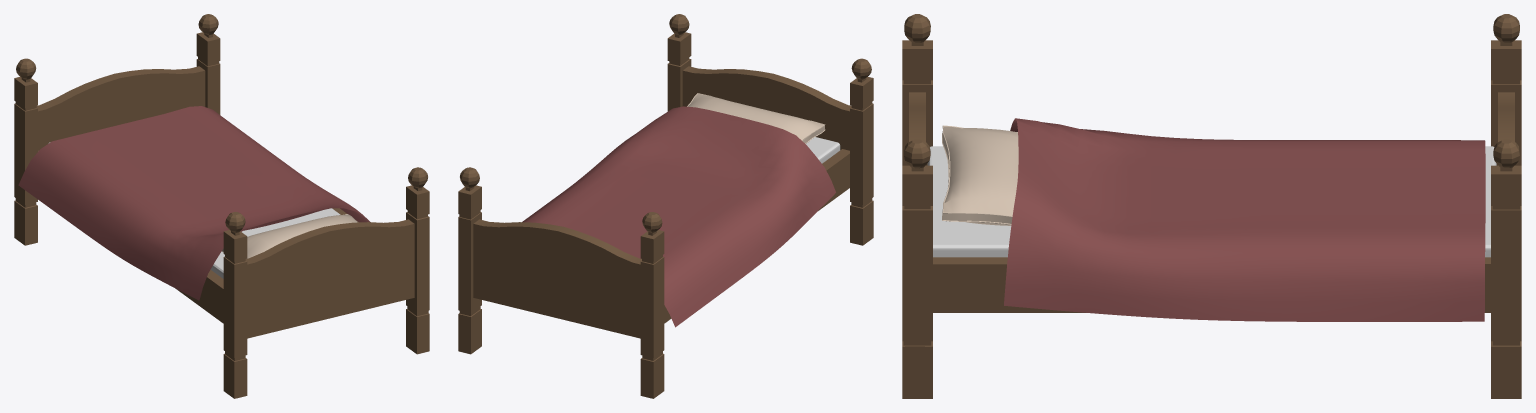
Rendered from Bed_low.fbx.
3 views of the same model, side by side, from view 1: azimuth 30°, elevation 25°; view 2: azimuth 150°, elevation 25°; view 3: azimuth 270°, elevation 25° (orthographic). The views are drawn at different scales.
Parts seen in each view (by area): view 1: Bed_low; view 2: Bed_low; view 3: Bed_low.
Boxes of the visible parts, bbox=[...] form: Bed_low: bbox=[14, 14, 429, 398]; Bed_low: bbox=[458, 14, 873, 398]; Bed_low: bbox=[902, 14, 1521, 398].
Bounding box in the file's own units: 131 × 107 × 238.
